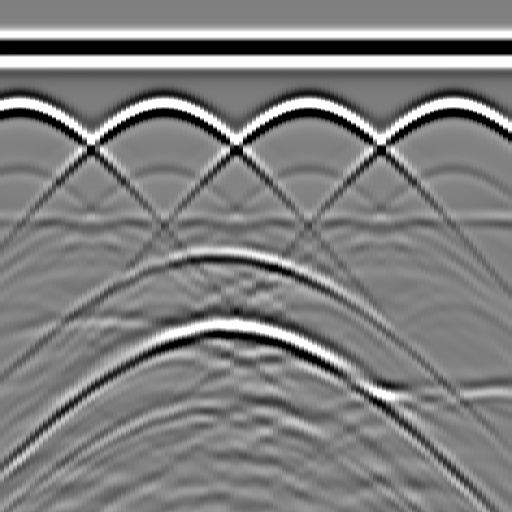grout_surface: (1, 206, 512, 236)
rebar: (142, 87, 182, 127), (286, 87, 326, 127), (430, 87, 470, 127)
rock_surface: (1, 320, 511, 393)
water_void: (190, 229, 250, 269)
